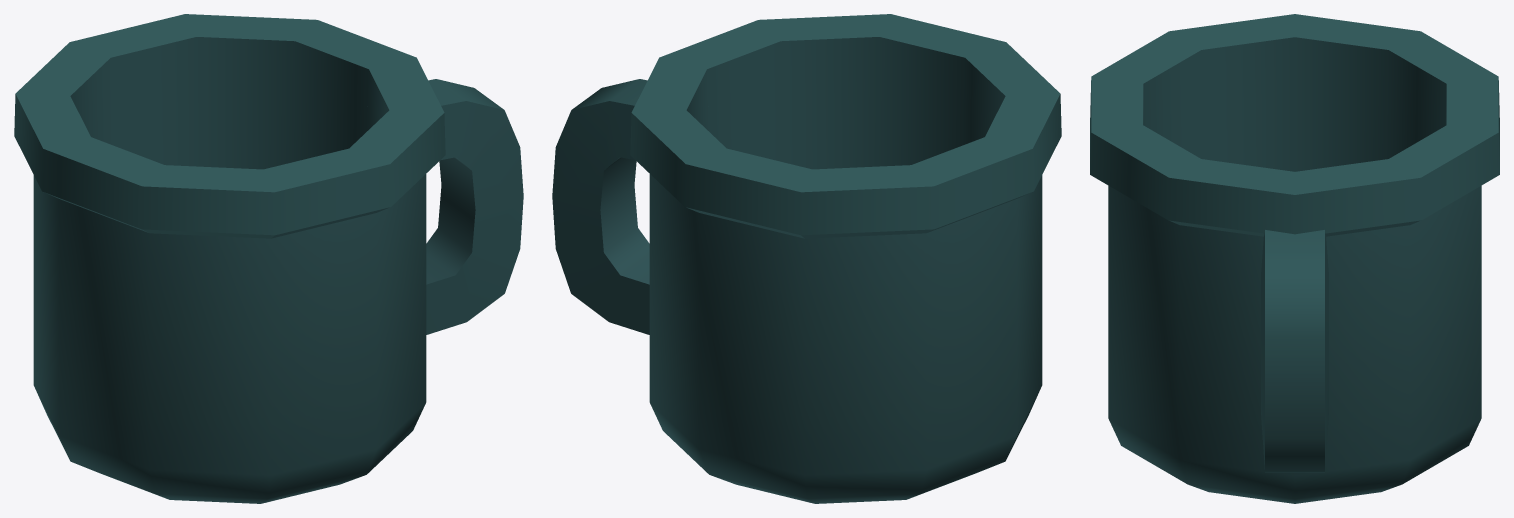
File: SM_Cap.fbx
3 renders of one model, left to right at view 1: azimuth 30°, elevation 25°; view 2: azimuth 150°, elevation 25°; view 3: azimuth 270°, elevation 25°, orthographic.
Visible parts, largest first — view 1: SM_Cap; view 2: SM_Cap; view 3: SM_Cap.
Part boxes in pixels (bbox=[...]): SM_Cap: bbox=[14, 14, 523, 503]; SM_Cap: bbox=[552, 14, 1061, 503]; SM_Cap: bbox=[1090, 14, 1499, 503].
Size of the model in its own units: 18.61 by 12.95 by 14.25.
